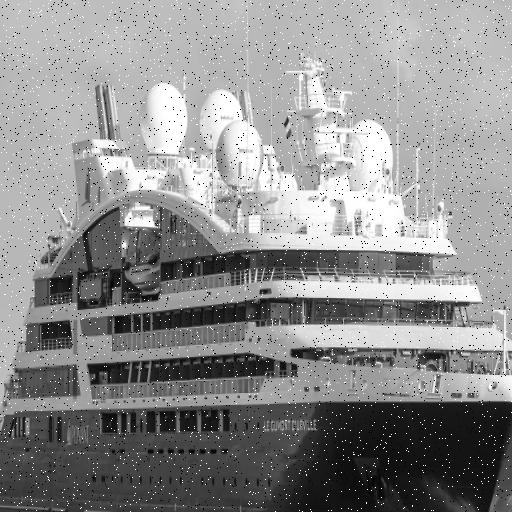cruises: (1, 51, 512, 512)
